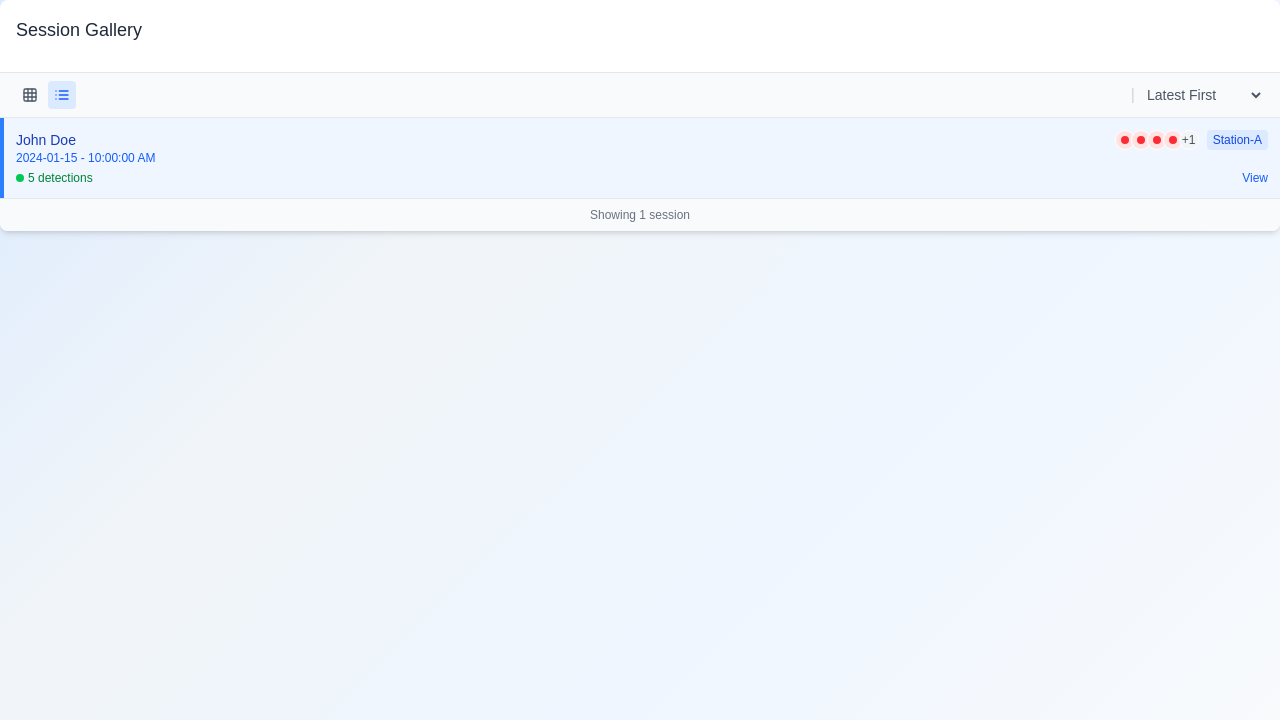
Test: SessionGallery Component › Grid View › limits detection indicators to 3 in grid view
The image size is (1280, 720).
Click the button named "Grid view": click(30, 95) [16,81,44,109]
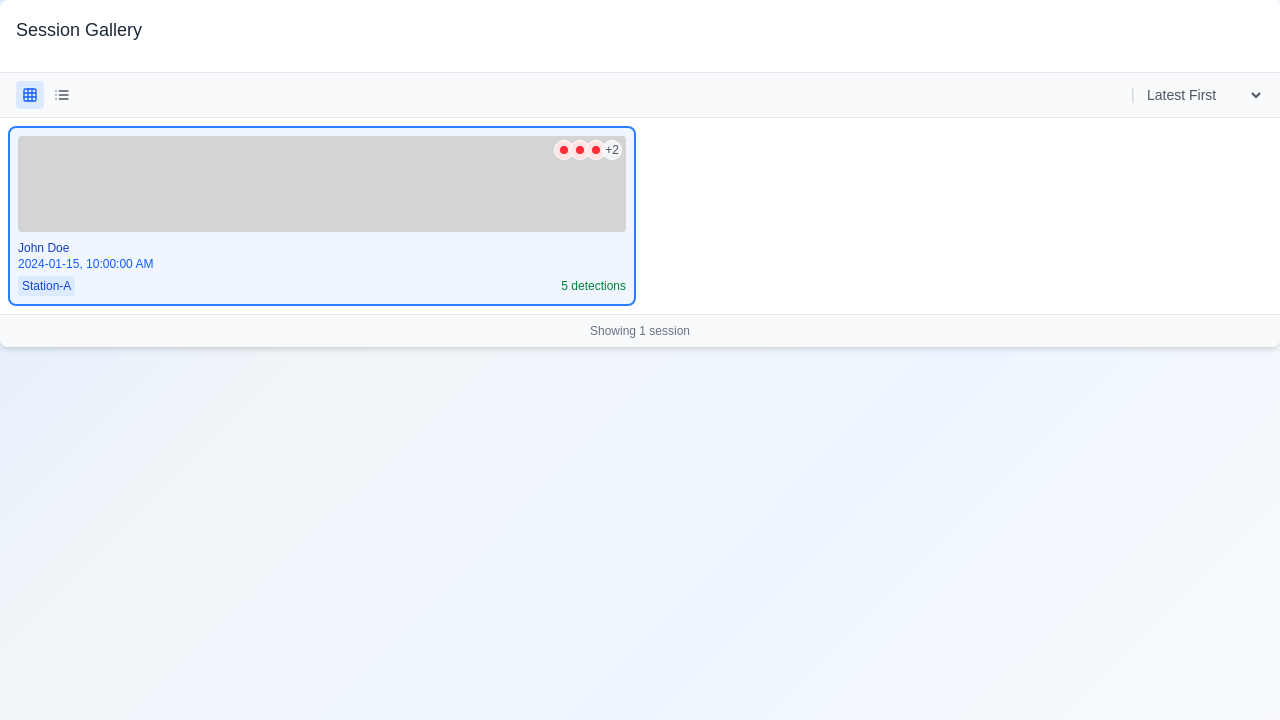
Check: the text "+2" is shown, box [602,140,622,160]
